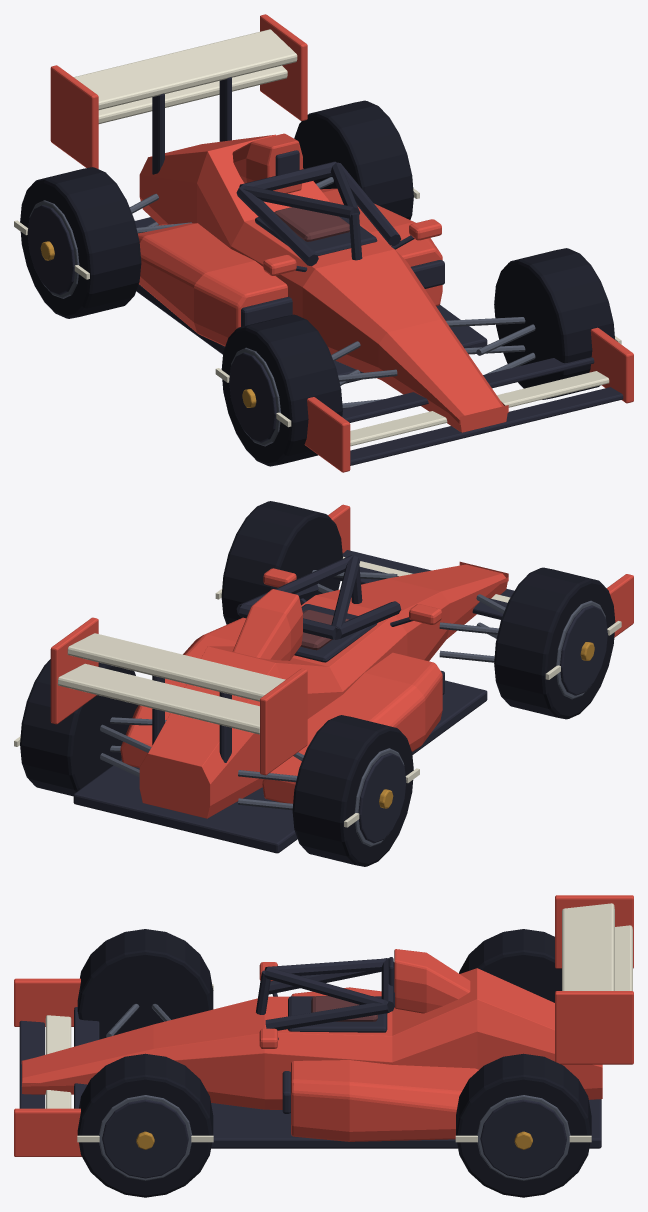
3 renders of one model, top to bottom at view 1: azimuth 30°, elevation 25°; view 2: azimuth 150°, elevation 25°; view 3: azimuth 270°, elevation 25°, orthographic. The views are drawn at different scales.
Visible parts, largest first — view 1: sculpted_monocoque, tire_front_right.003, tire_rear_left.003, sculpted_sidepod, tire_front_left.003, tire_rear_right.003, rear_wing_element, rear_wing_endplate, front_wing_flap, front_wing_flap.001, carbon_disc, carbon_disc.002 (+18 smaller); view 2: sculpted_monocoque, tire_front_left.003, tire_rear_left.003, flat_floor, tire_rear_right.003, tire_front_right.003, sculpted_sidepod, rear_wing_element, rear_wing_element.001, rear_wing_endplate, airbox, carbon_disc.002 (+16 smaller); view 3: sculpted_monocoque, sculpted_sidepod.001, tire_front_left.003, tire_rear_right.003, tire_front_right.003, rear_wing_endplate.001, flat_floor, carbon_disc.001, carbon_disc.003, rear_wing_element, tire_rear_left.003, airbox (+16 smaller).
Part boxes in pixels (bbox=[...]): sculpted_monocoque: bbox=[139, 134, 508, 432]; tire_front_right.003: bbox=[494, 248, 614, 399]; tire_rear_left.003: bbox=[20, 167, 141, 318]; sculpted_sidepod: bbox=[138, 223, 287, 346]; tire_front_left.003: bbox=[221, 314, 342, 466]; tire_rear_right.003: bbox=[294, 100, 413, 219]; rear_wing_element: bbox=[74, 29, 297, 109]; rear_wing_endplate: bbox=[50, 65, 98, 168]; front_wing_flap: bbox=[350, 387, 623, 465]; front_wing_flap.001: bbox=[350, 371, 609, 446]; carbon_disc: bbox=[229, 352, 276, 442]; carbon_disc.002: bbox=[27, 205, 75, 295]; sculpted_monocoque: bbox=[139, 561, 508, 818]; tire_front_left.003: bbox=[494, 567, 615, 719]; tire_rear_left.003: bbox=[292, 715, 413, 866]; flat_floor: bbox=[73, 680, 487, 853]; tire_rear_right.003: bbox=[20, 659, 138, 796]; tire_front_right.003: bbox=[221, 501, 342, 624]; sculpted_sidepod: bbox=[262, 652, 442, 803]; rear_wing_element: bbox=[67, 633, 285, 701]; rear_wing_element.001: bbox=[57, 663, 259, 734]; rear_wing_endplate: bbox=[260, 668, 307, 775]; airbox: bbox=[232, 589, 302, 660]; carbon_disc.002: bbox=[358, 753, 406, 843]; sculpted_monocoque: bbox=[21, 968, 602, 1109]; sculpted_sidepod.001: bbox=[291, 1060, 478, 1141]; tire_front_left.003: bbox=[77, 929, 213, 1039]; tire_rear_right.003: bbox=[456, 1053, 591, 1197]; tire_front_right.003: bbox=[77, 1053, 213, 1197]; rear_wing_endplate.001: bbox=[555, 991, 633, 1064]; flat_floor: bbox=[211, 1099, 601, 1148]; carbon_disc.001: bbox=[102, 1099, 188, 1178]; carbon_disc.003: bbox=[480, 1099, 566, 1178]; rear_wing_element: bbox=[562, 903, 614, 990]; tire_rear_left.003: bbox=[459, 929, 561, 1002]; airbox: bbox=[394, 949, 470, 1013].
Bounding box in the file's own units: 1.84 × 0.985 × 3.06.
